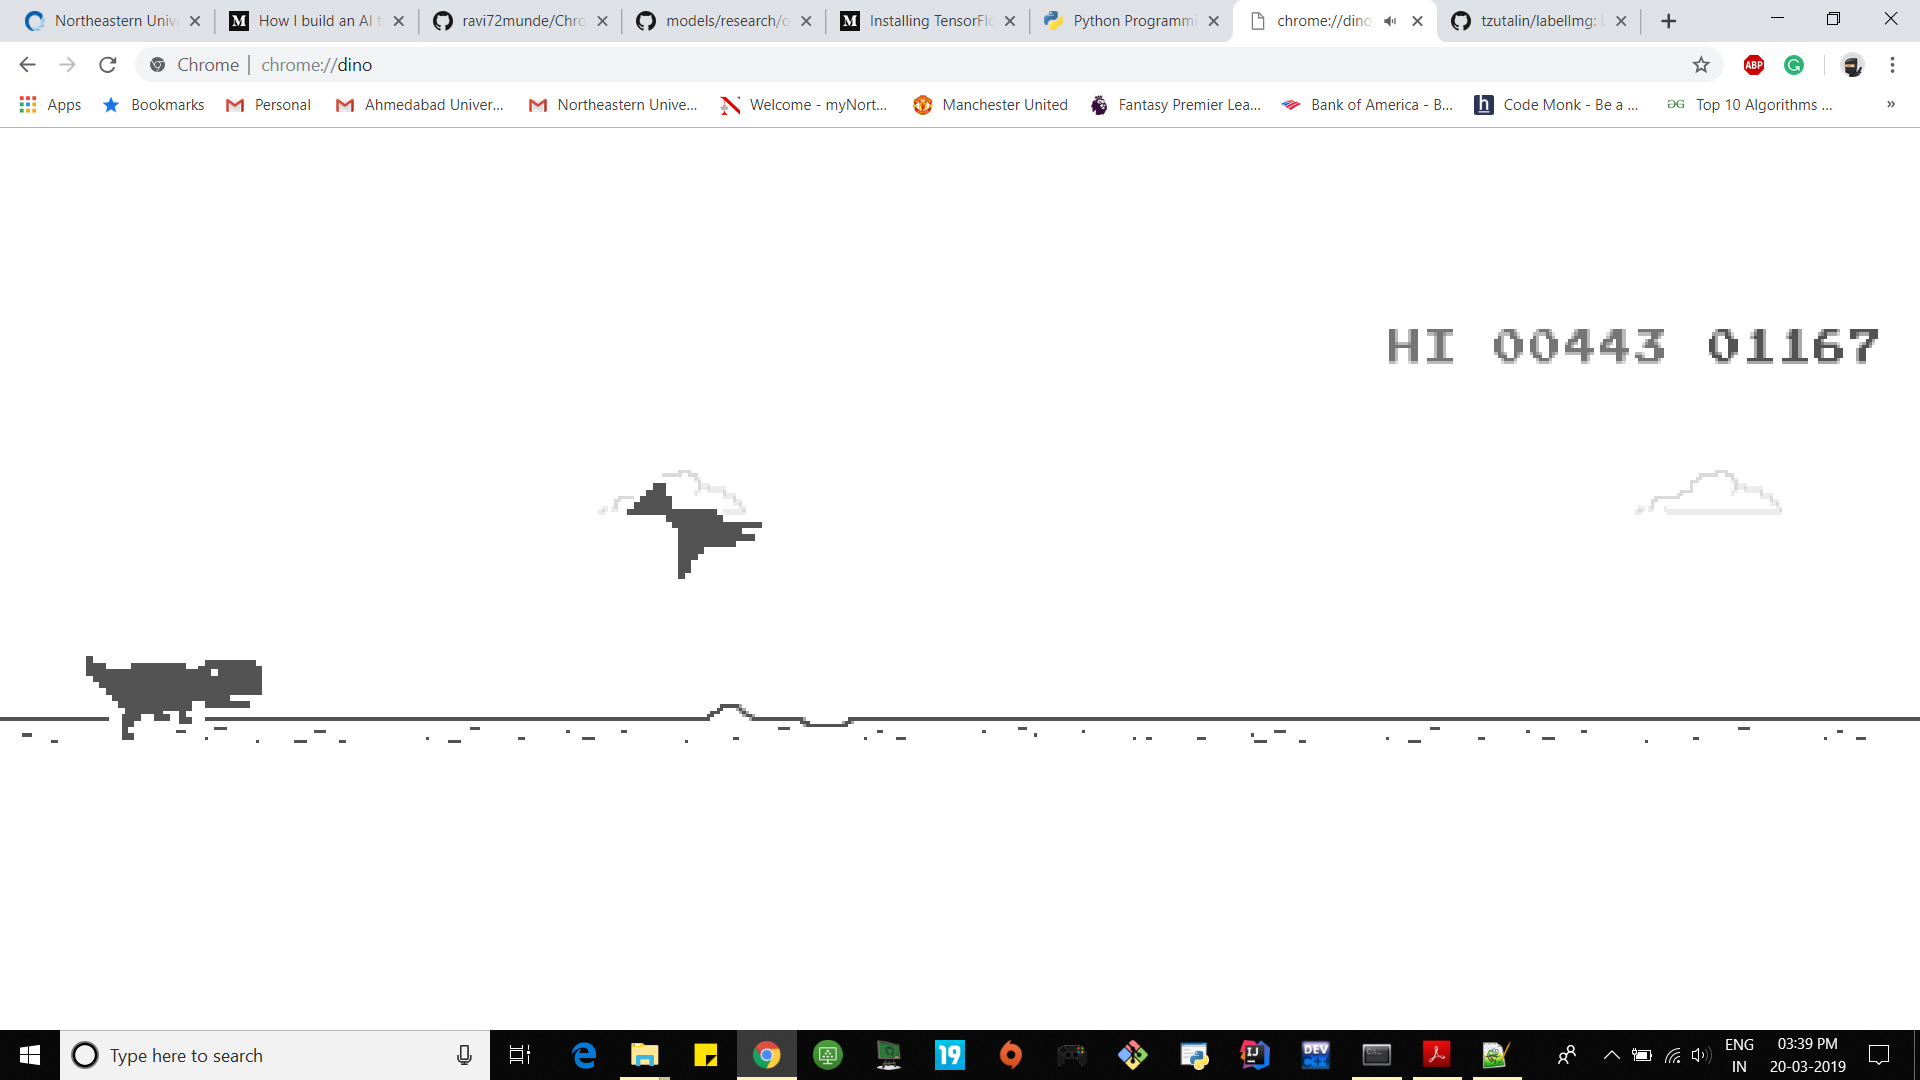bird: (628, 483, 764, 580)
dino: (80, 655, 265, 741)
